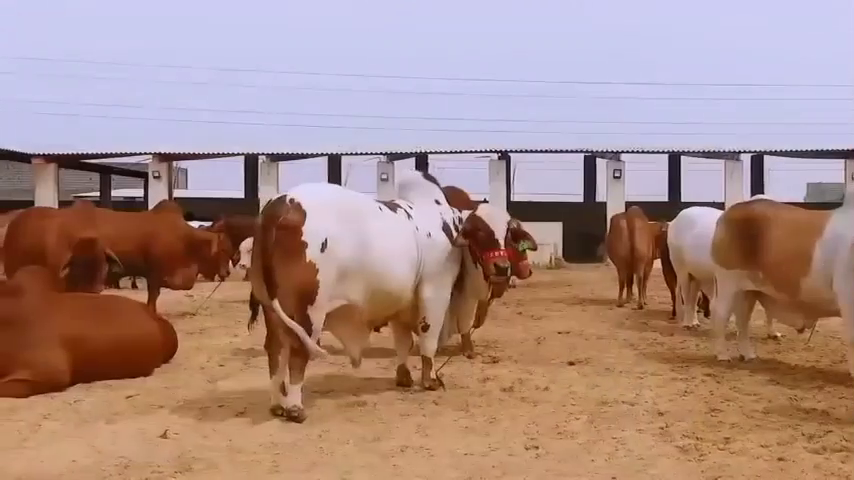bo: (246, 166, 514, 429), (2, 267, 185, 409), (710, 193, 851, 373), (90, 183, 232, 323), (659, 190, 771, 334), (9, 201, 127, 297), (589, 184, 667, 323), (502, 226, 542, 293), (212, 212, 253, 257)
